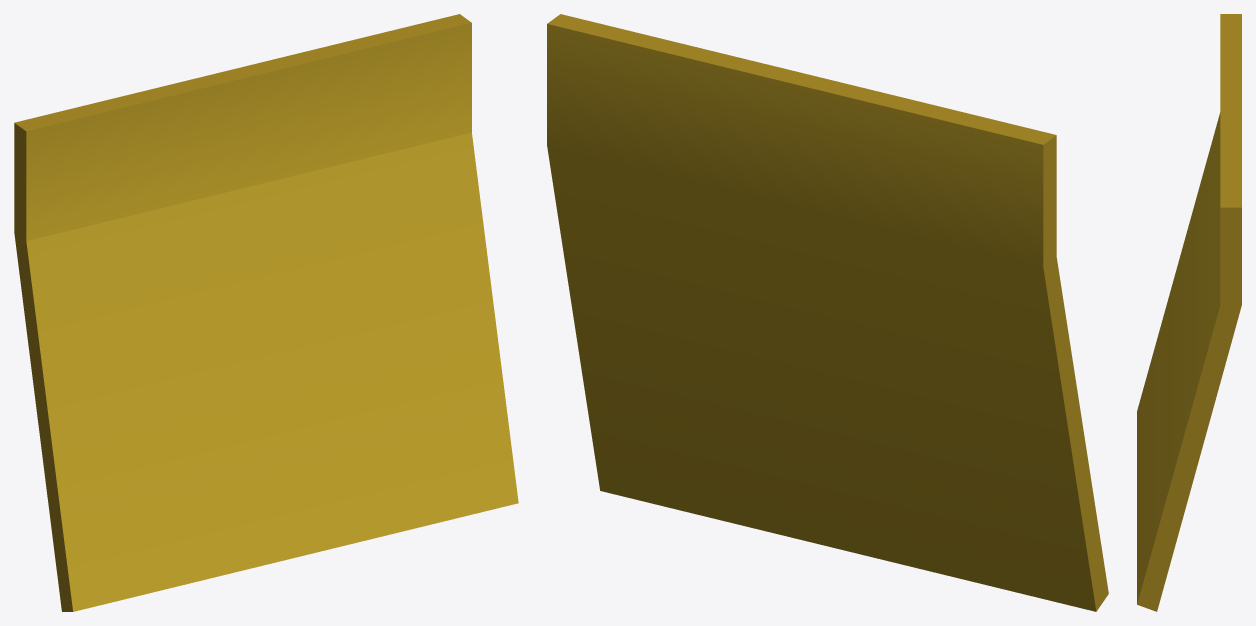
File: SO_StickyNote_01.fbx
3 renders of one model, left to right at view 1: azimuth 30°, elevation 25°; view 2: azimuth 150°, elevation 25°; view 3: azimuth 270°, elevation 25°, orthographic. The views are drawn at different scales.
Parts seen in each view (by area): view 1: SO_StickyNote_01; view 2: SO_StickyNote_01; view 3: SO_StickyNote_01.
Part boxes in pixels (x1,y1,x2,y2): SO_StickyNote_01: (14, 14, 518, 611); SO_StickyNote_01: (547, 14, 1108, 611); SO_StickyNote_01: (1137, 14, 1241, 611).
Bounding box in the file's own units: 0.195 × 0.19 × 0.0446.
